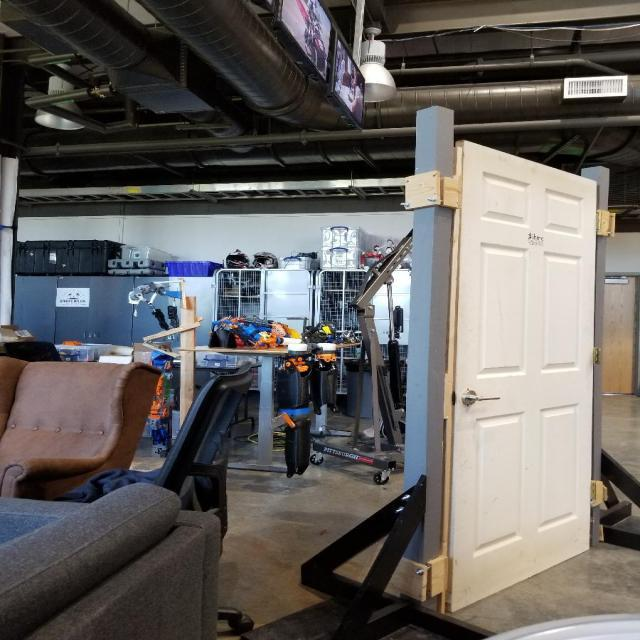door: (440, 136, 602, 620), (454, 387, 502, 408)
